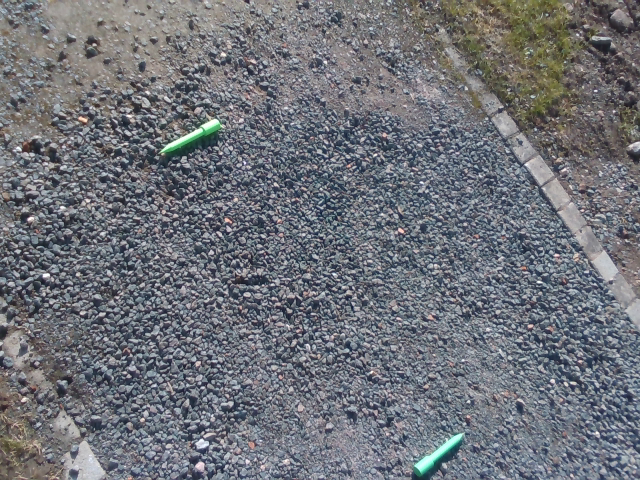Probe: (408, 428, 470, 480), (158, 114, 225, 158)
